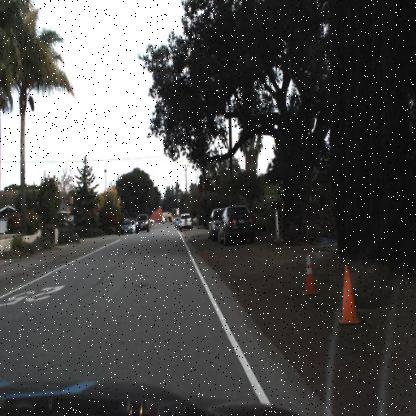car: (216, 203, 254, 245), (178, 211, 194, 231), (135, 213, 150, 234), (118, 219, 133, 238)
